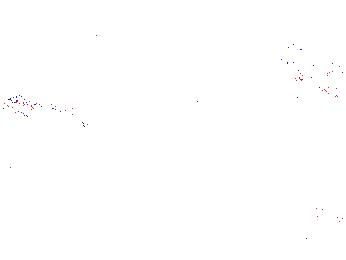glassfish: (5, 92, 101, 148)
redtail glassfish: (280, 47, 346, 84), (265, 65, 305, 84)
